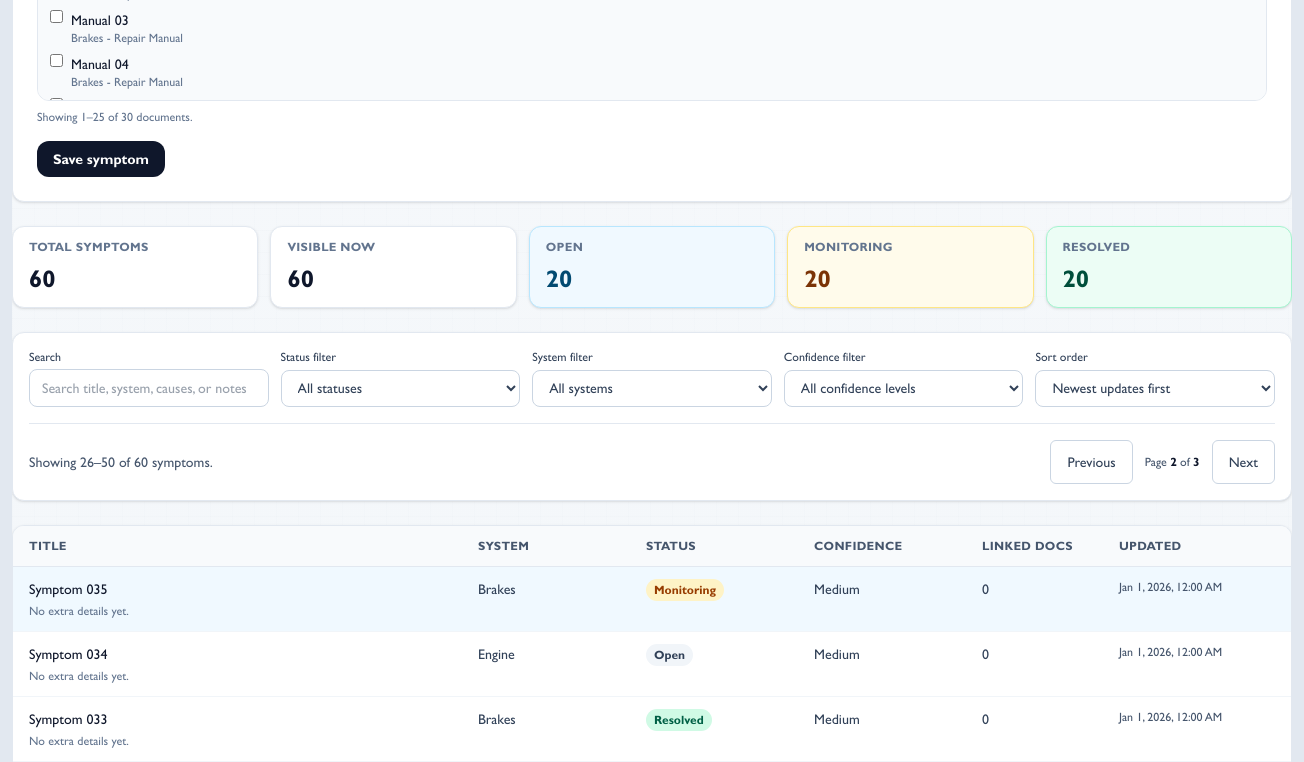
Test case: a filter change drops the page and the System filter offers every system
(page scrolled)
Select "Brakes" in the dropdown labelled "System filter": (652, 388) x1=532 y1=370 x2=772 y2=407
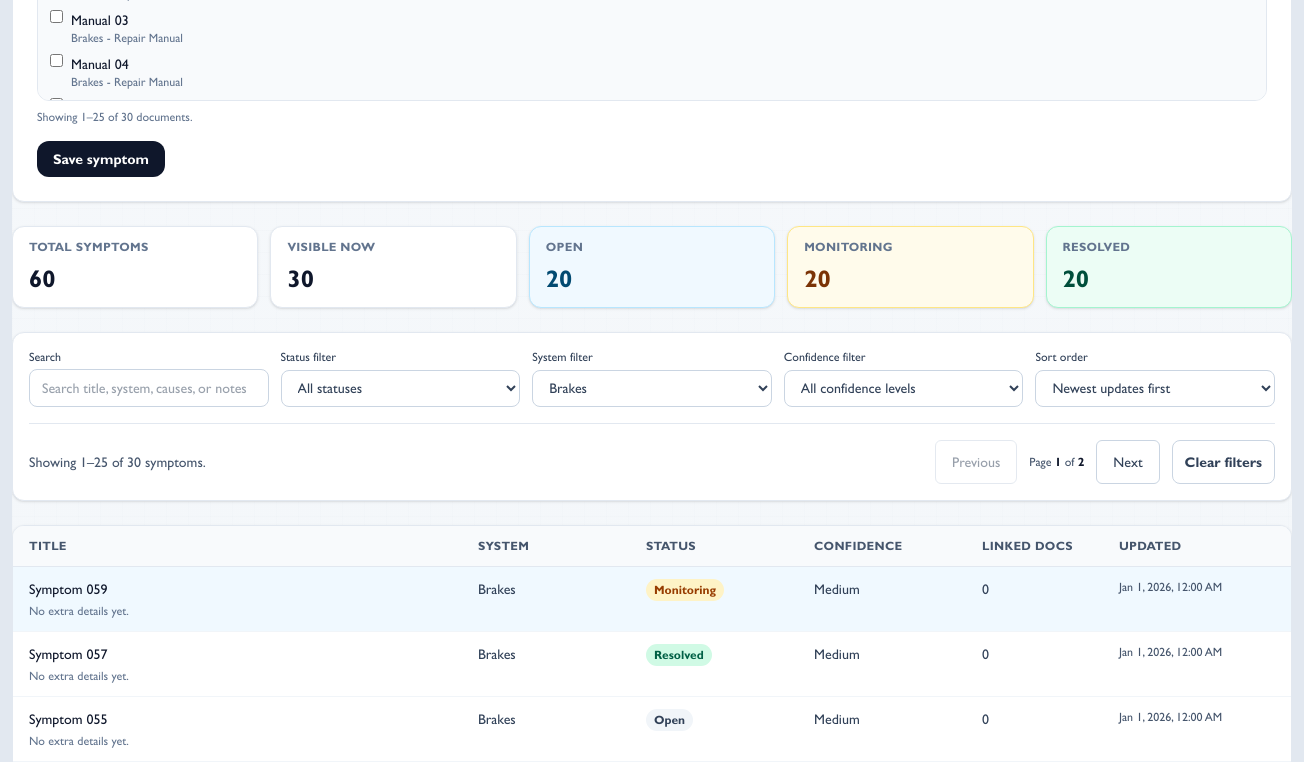
Expected: the text "Showing 1–25 of 30 symptoms." is shown, x1=29 y1=452 x2=206 y2=472
